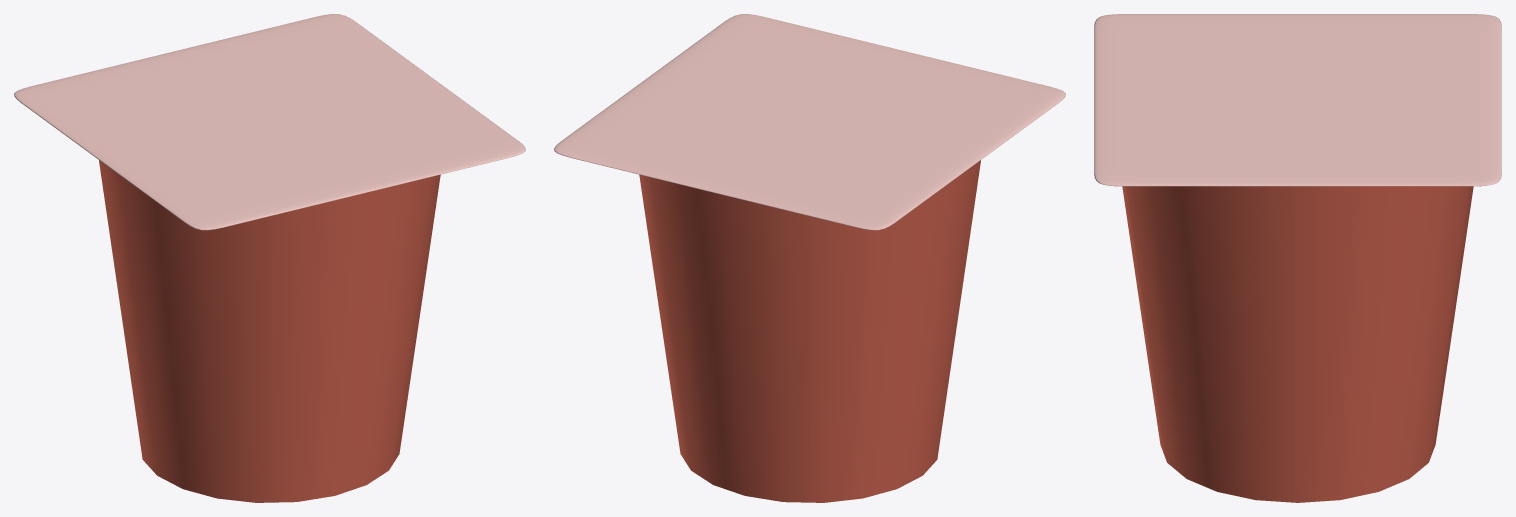
The model's file is Yogurt_Final.fbx.
The picture shows the model from 3 angles, left to right: view 1: azimuth 30°, elevation 25°; view 2: azimuth 150°, elevation 25°; view 3: azimuth 270°, elevation 25°; orthographic projection. The views are drawn at different scales.
Parts seen in each view (by area): view 1: Base, Lid; view 2: Base, Lid; view 3: Base, Lid.
Boxes of the visible parts, x1,y1,x2,y2 form: Base: (99,160,440,502); Lid: (14,14,525,230); Base: (639,160,980,502); Lid: (554,14,1065,230); Base: (1122,186,1473,502); Lid: (1094,14,1501,186).
Size of the model in its own units: 1.45 by 1.36 by 1.45.
